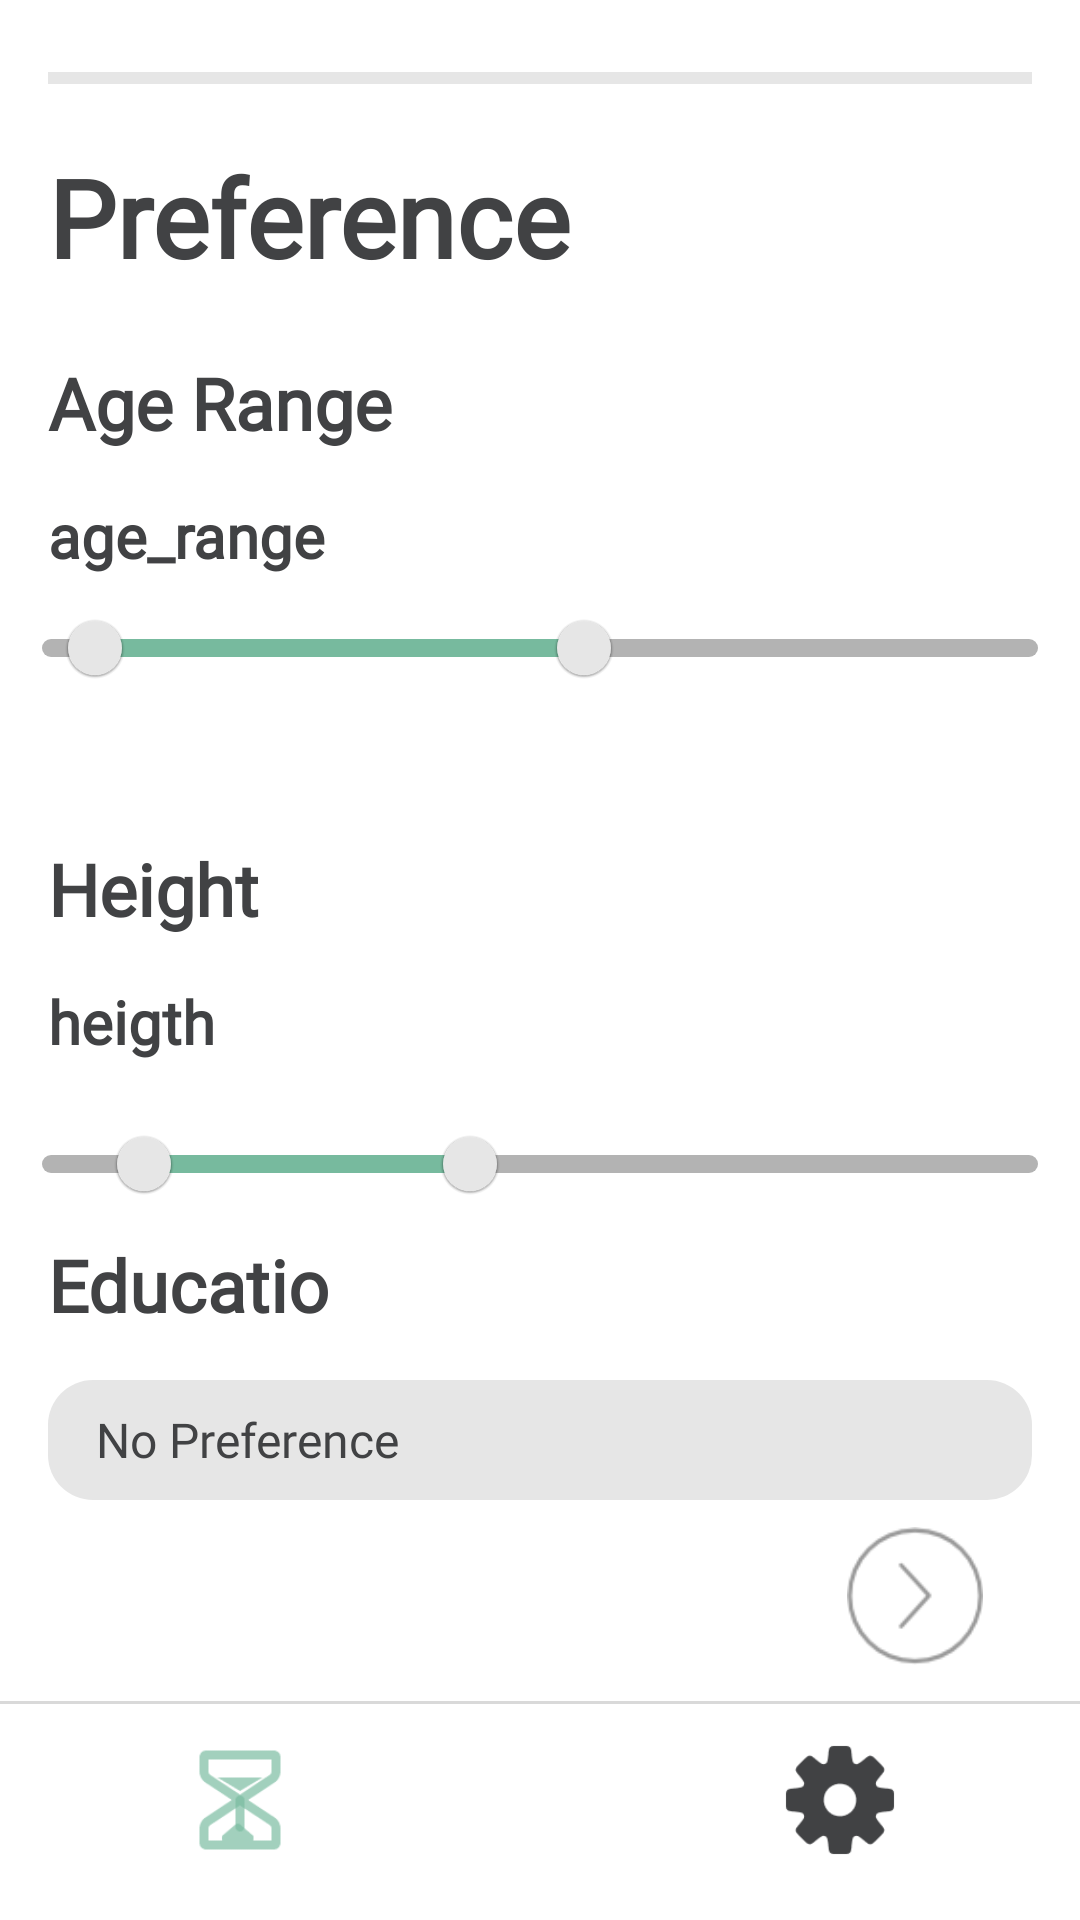

Icons on this 1080px x 1920px Android screen, each with its box as box(x1, y1, x2, y2):
next: box(847, 1527, 983, 1664)
